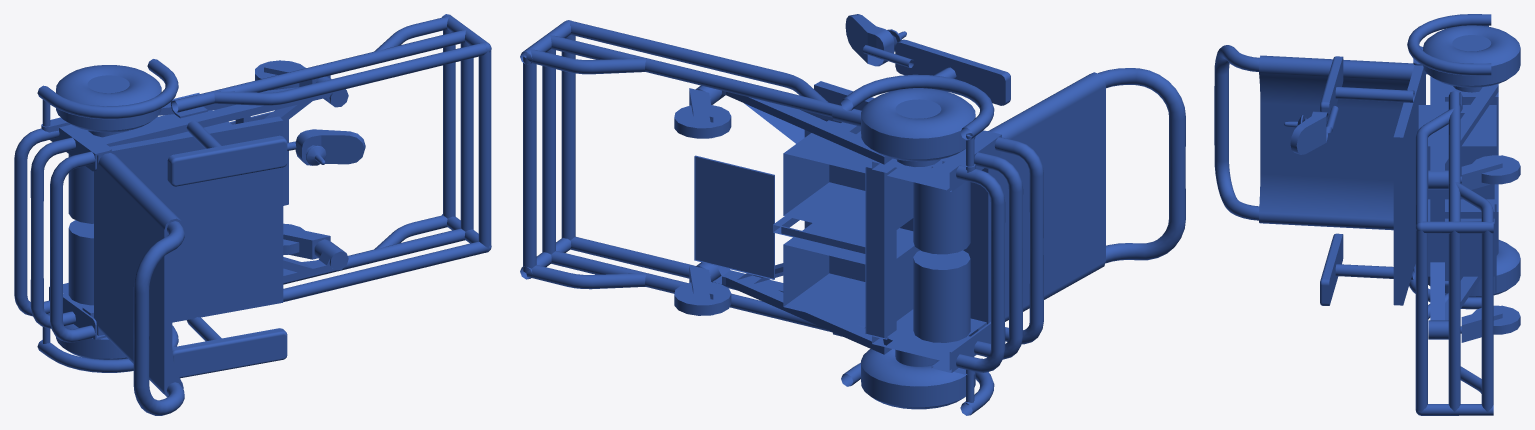
File: Blue_Chair_Surfaces.obj
The picture shows the model from 3 angles, left to right: view 1: azimuth 30°, elevation 25°; view 2: azimuth 150°, elevation 25°; view 3: azimuth 270°, elevation 25°; orthographic projection. The views are drawn at different scales.
Visible parts, largest first — view 1: Surface 35, Surface 76, Surface 79, Surface 38, Surface 58, Surface 81, Surface 68, Surface 66, Surface 40, Surface 49, Surface 27, Surface 43 (+29 smaller); view 2: Surface 79, Surface 83, Surface 33, Surface 74, Surface 58, Surface 38, Surface 13, Surface 17, Surface 66, Surface 54, Surface 68, Surface 43 (+40 smaller); view 3: Surface 38, Surface 79, Surface 58, Surface 76, Surface 74, Surface 49, Surface 43, Surface 35, Surface 39, Surface 33, Surface 66, Surface 68 (+31 smaller).
Part boxes in pixels (x1=…): Surface 35: x1=94, y1=211, x2=283, y2=335; Surface 76: x1=94, y1=116, x2=283, y2=244; Surface 79: x1=98, y1=153, x2=183, y2=310; Surface 38: x1=98, y1=245, x2=183, y2=396; Surface 58: x1=56, y1=65, x2=161, y2=132; Surface 81: x1=167, y1=135, x2=287, y2=186; Surface 68: x1=213, y1=42, x2=487, y2=105; Surface 66: x1=172, y1=29, x2=467, y2=112; Surface 40: x1=172, y1=328, x2=287, y2=378; Surface 49: x1=98, y1=87, x2=326, y2=146; Surface 27: x1=283, y1=241, x2=487, y2=301; Surface 43: x1=37, y1=59, x2=178, y2=119; Surface 79: x1=988, y1=72, x2=1105, y2=229; Surface 83: x1=694, y1=155, x2=774, y2=279; Surface 33: x1=783, y1=223, x2=920, y2=326; Surface 74: x1=783, y1=120, x2=913, y2=235; Surface 58: x1=861, y1=88, x2=975, y2=161; Surface 38: x1=1005, y1=173, x2=1105, y2=321; Surface 13: x1=913, y1=250, x2=970, y2=342; Surface 17: x1=861, y1=349, x2=975, y2=409; Surface 66: x1=549, y1=35, x2=861, y2=117; Surface 54: x1=913, y1=181, x2=970, y2=254; Surface 68: x1=568, y1=20, x2=828, y2=102; Surface 43: x1=841, y1=74, x2=994, y2=140; Surface 38: x1=1259, y1=138, x2=1393, y2=230; Surface 79: x1=1259, y1=55, x2=1414, y2=145; Surface 58: x1=1423, y1=25, x2=1520, y2=87; Surface 76: x1=1393, y1=65, x2=1425, y2=221; Surface 74: x1=1418, y1=105, x2=1496, y2=199; Surface 49: x1=1430, y1=76, x2=1498, y2=169; Surface 43: x1=1407, y1=14, x2=1491, y2=75; Surface 35: x1=1393, y1=180, x2=1415, y2=305; Surface 39: x1=1214, y1=116, x2=1259, y2=220; Surface 33: x1=1428, y1=199, x2=1494, y2=276; Surface 66: x1=1448, y1=90, x2=1460, y2=221; Surface 68: x1=1415, y1=108, x2=1454, y2=226.
Bounding box in the file's own units: 1.29 × 0.7036 × 0.7971.
